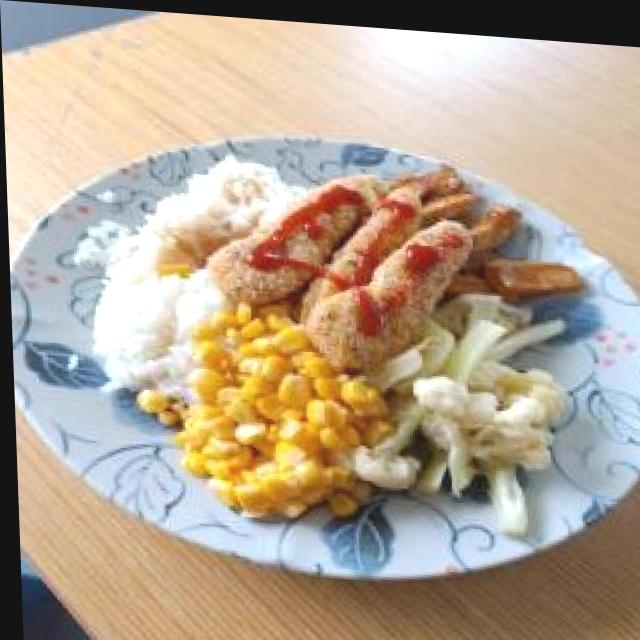rice: (74, 142, 304, 398)
